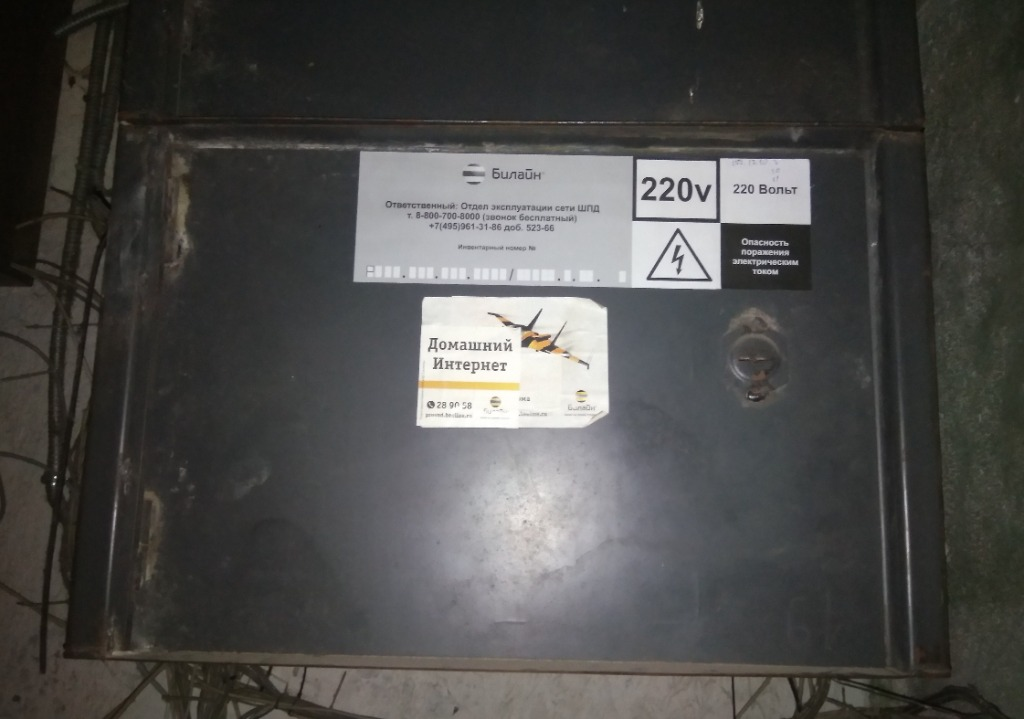e2-6u: (56, 120, 959, 679)
